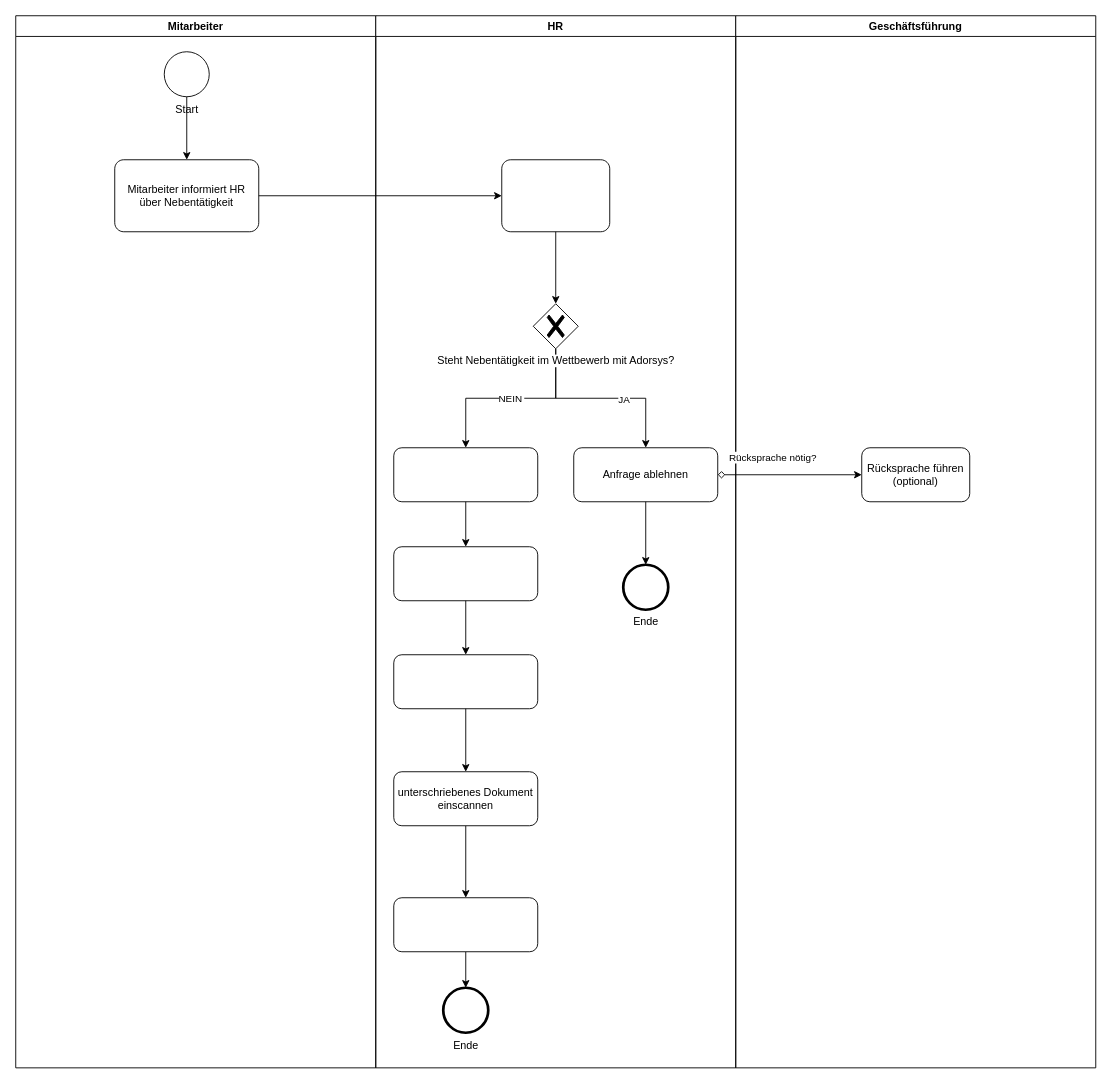
Image size: 1112x1084. Some labels were removed from this diagram. Each missing label, with the centre of its shape:
Dokument "Erlaubnis Nebentätigkeit" erstellen: [465,474]
Dokument in Personalakte ablegen: [465,924]
Dokument zur Unterschrift vorlegen: [465,681]
Information zu Nebentätigkeit einholen: [555,195]
Rücksprache bei Unklarheiten: [465,573]
